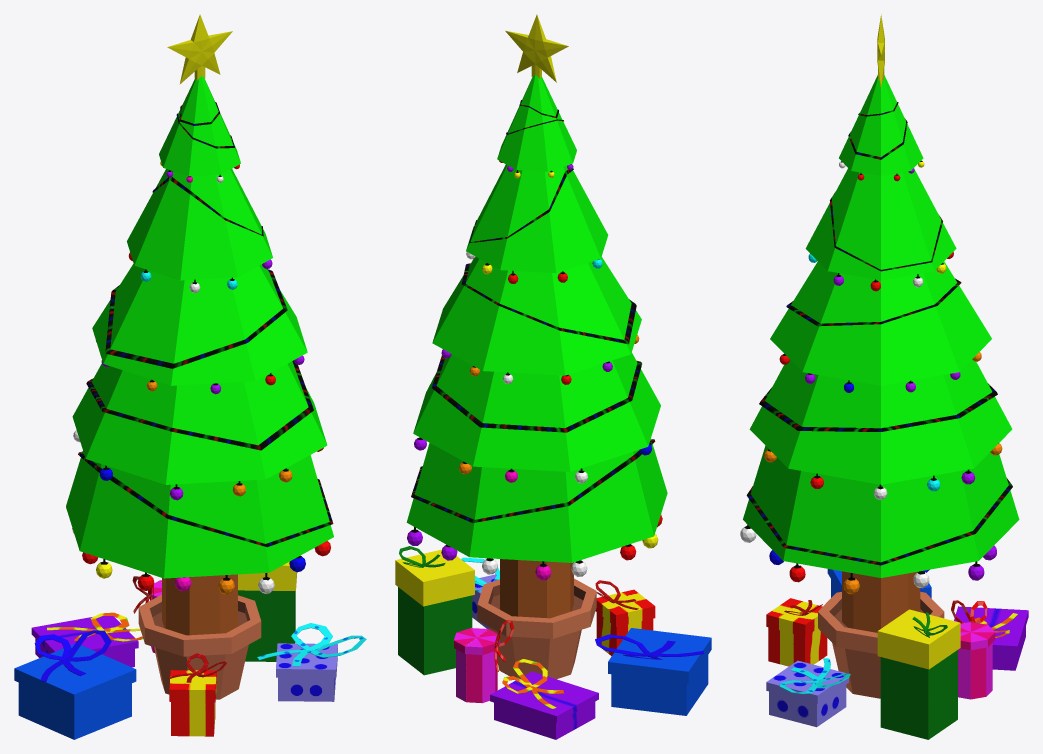
The model's file is pinheiro_de_natal.glb.
3 renders of one model, left to right at view 1: azimuth 30°, elevation 25°; view 2: azimuth 150°, elevation 25°; view 3: azimuth 270°, elevation 25°, orthographic. The views are drawn at different scales.
Size of the model in its own units: 8.42 by 18.42 by 7.21.
1 material, 1 textured.
